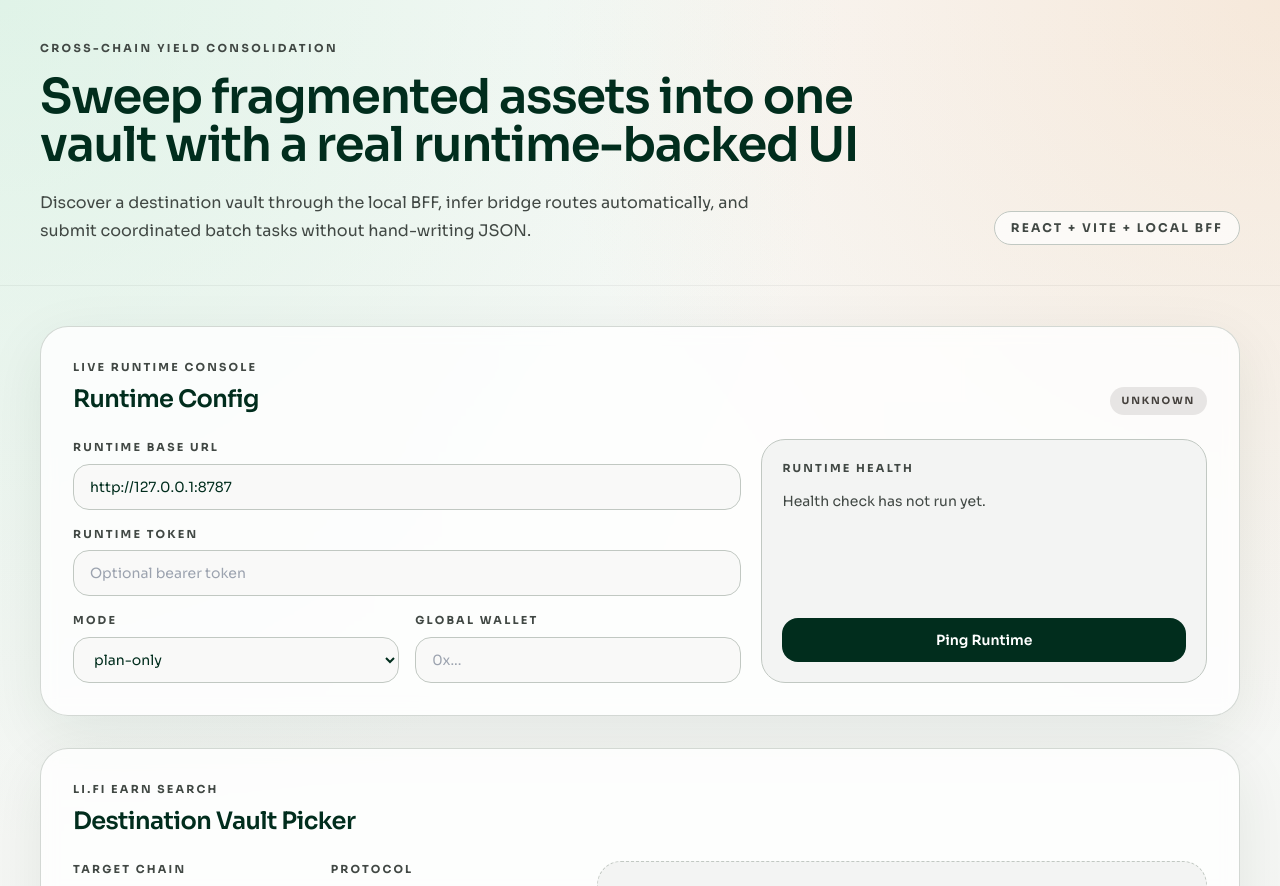
Test: App › shows runtime health failure visibly
Click the button "Ping Runtime".
click(984, 640)  # box [782,618,1186,662]
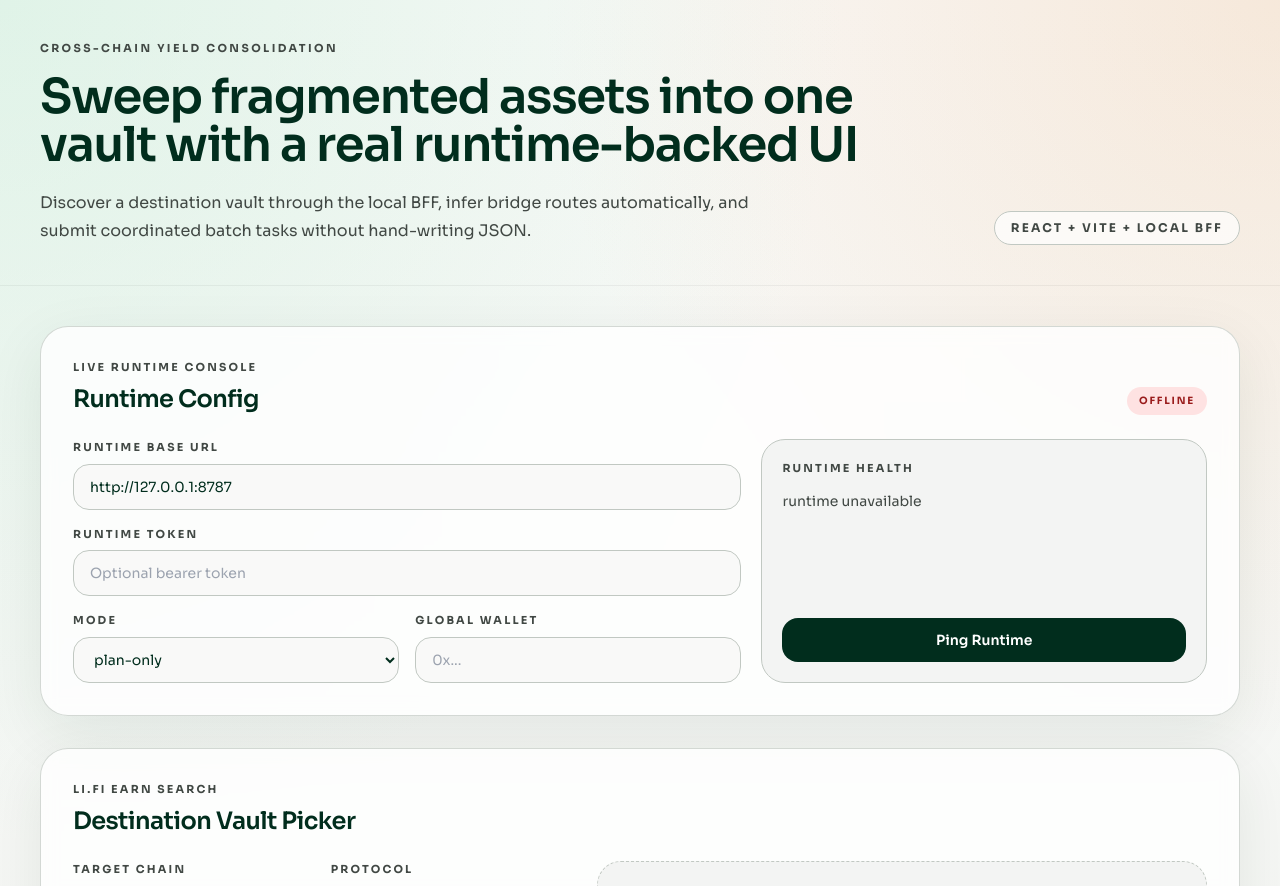
Check: the text "runtime unavailable" is shown, box [782,492,922,510]
